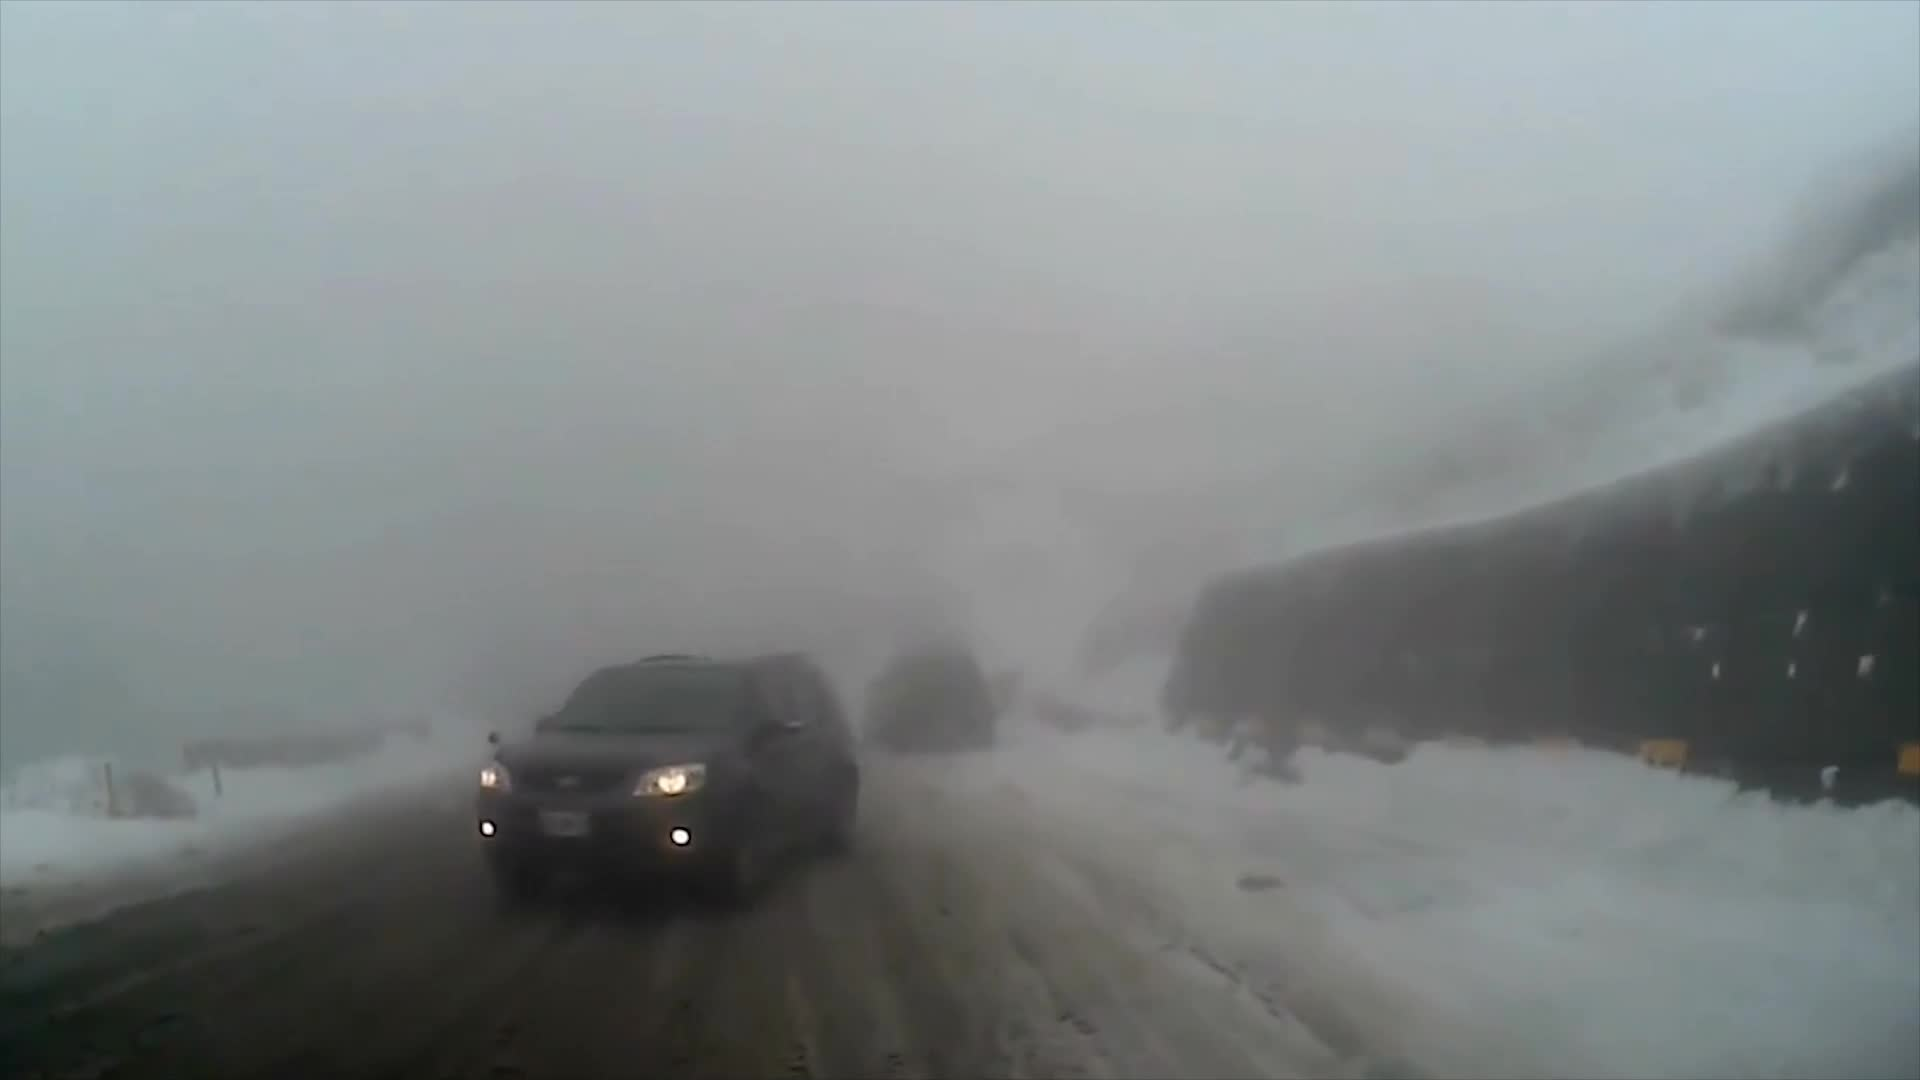vehicle: (472, 650, 862, 913), (862, 649, 992, 758)
